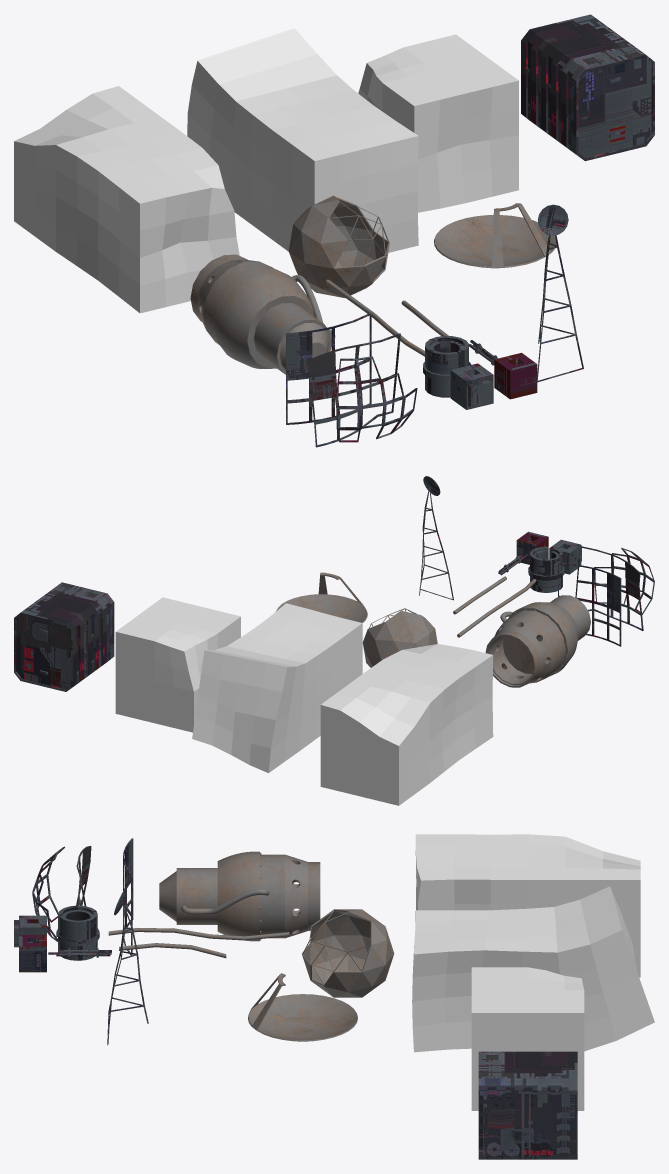
File: Debris.fbx
3 views of the same model, one above another, from view 1: azimuth 30°, elevation 25°; view 2: azimuth 150°, elevation 25°; view 3: azimuth 270°, elevation 25° (orthographic). The views are drawn at different scales.
Parts seen in each view (by area): view 1: Cube.001, Cube.000, Cube.003, CrateSmall.001, Thruster, Orb, Dish, Frame002.001, Frame002, CilynderSmall, Antenna, Frame001 (+3 smaller); view 2: Cube.001, Cube.000, Cube.003, CrateSmall.001, Thruster, Orb, Dish, CilynderSmall, Frame002, Frame002.001, Antenna, Frame001 (+2 smaller); view 3: Cube.000, Cube.001, Thruster, CrateSmall.001, Cube.003, Orb, Dish, CilynderSmall, Antenna, BoxSmall001, PipeLong001, Frame002 (+4 smaller).
Boxes of the visible parts, x1=… form: Cube.001: x1=14, y1=86, x2=239, y2=313; Cube.000: x1=187, y1=28, x2=418, y2=252; Cube.003: x1=358, y1=34, x2=518, y2=212; CrateSmall.001: x1=521, y1=14, x2=654, y2=161; Thruster: x1=190, y1=254, x2=335, y2=374; Orb: x1=288, y1=195, x2=389, y2=297; Dish: x1=434, y1=203, x2=556, y2=268; Frame002.001: x1=307, y1=333, x2=400, y2=447; Frame002: x1=286, y1=313, x2=371, y2=424; CilynderSmall: x1=423, y1=336, x2=471, y2=397; Antenna: x1=537, y1=204, x2=583, y2=382; Frame001: x1=336, y1=356, x2=417, y2=442; Cube.001: x1=320, y1=644, x2=493, y2=805; Cube.000: x1=192, y1=603, x2=362, y2=773; Cube.003: x1=115, y1=597, x2=240, y2=732; CrateSmall.001: x1=14, y1=582, x2=114, y2=691; Thruster: x1=485, y1=595, x2=590, y2=687; Orb: x1=362, y1=608, x2=437, y2=667; Dish: x1=276, y1=572, x2=367, y2=622; CilynderSmall: x1=528, y1=546, x2=564, y2=592; Frame002: x1=558, y1=562, x2=621, y2=646; Frame002.001: x1=575, y1=546, x2=643, y2=630; Antenna: x1=419, y1=476, x2=453, y2=600; Frame001: x1=594, y1=547, x2=654, y2=614; Cube.000: x1=412, y1=886, x2=654, y2=1052; Cube.001: x1=415, y1=834, x2=640, y2=977; Thruster: x1=159, y1=851, x2=320, y2=941; CrateSmall.001: x1=478, y1=1051, x2=577, y2=1159; Cube.003: x1=471, y1=967, x2=584, y2=1110; Orb: x1=302, y1=909, x2=394, y2=997; Dish: x1=248, y1=973, x2=357, y2=1041; CilynderSmall: x1=56, y1=905, x2=99, y2=960; Antenna: x1=107, y1=890, x2=148, y2=1045; BoxSmall001: x1=19, y1=935, x2=46, y2=972; PipeLong001: x1=108, y1=928, x2=289, y2=940; Frame002: x1=123, y1=838, x2=133, y2=955.
Size of the model in its own units: 1294 by 372 by 1424.
